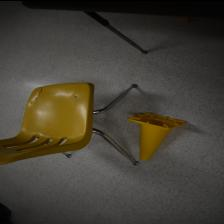cone: (126, 110, 188, 160)
